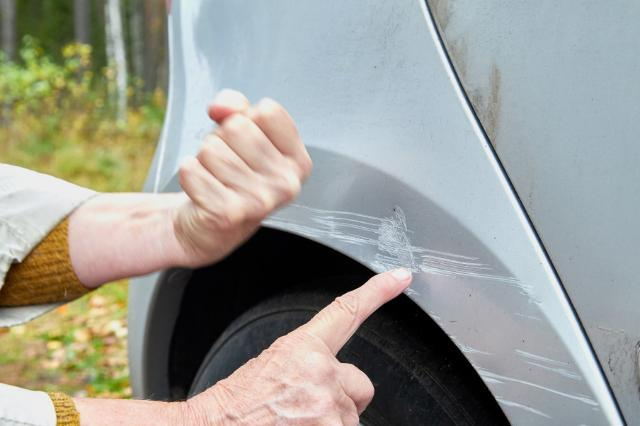Fender: (270, 146, 569, 426)
